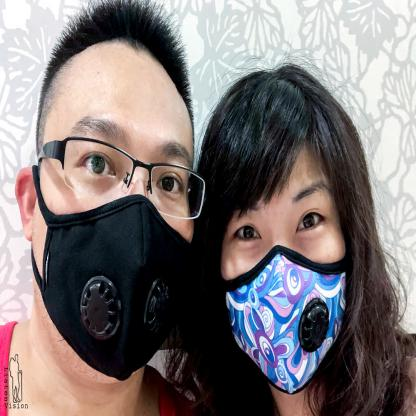Wearing_Mask: (38, 114, 194, 383), (218, 176, 348, 396)
